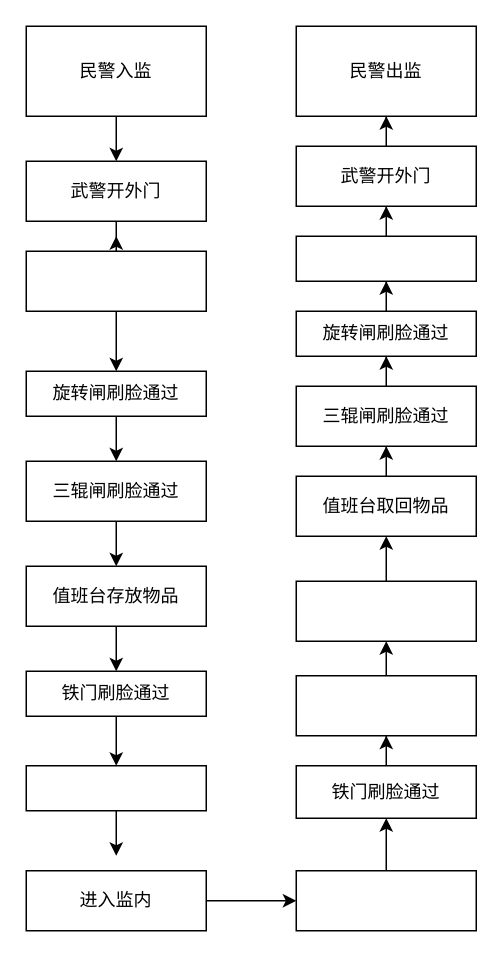
Some shapes in this 503 by 957 pixel diagram are drawn without their labels. Here are the shapes that lost their labels. From the top down, the box of each, then its label:
(295, 235, 476, 281): 武警开外三辊闸
(25, 250, 206, 311): 不发卡
(295, 580, 476, 641): 值班室民警开通道门
(295, 674, 476, 736): 通道三辊闸刷脸通过
(25, 764, 206, 811): 过通道
(295, 869, 476, 931): 出监
